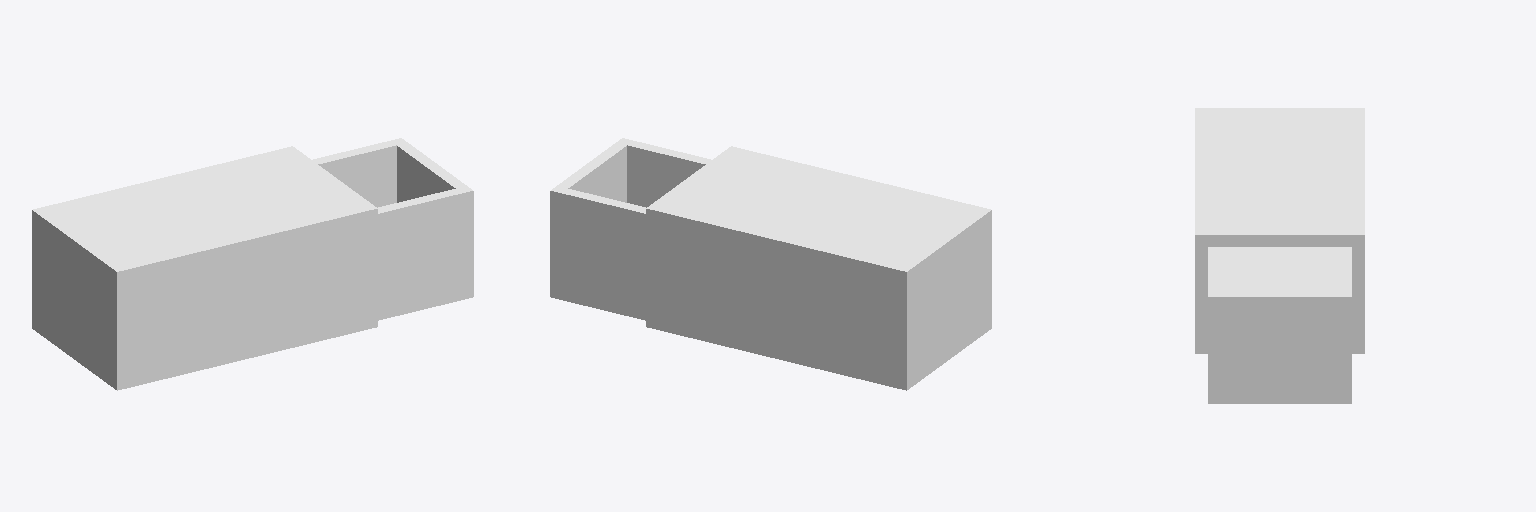
File: sboxbE.obj
3 views of the same model, side by side, from view 1: azimuth 30°, elevation 25°; view 2: azimuth 150°, elevation 25°; view 3: azimuth 270°, elevation 25° (orthographic).
Parts seen in each view (by area): view 1: object 1; view 2: object 1; view 3: object 1.
Boxes of the visible parts, x1=… form: object 1: x1=32, y1=138, x2=473, y2=390; object 1: x1=550, y1=138, x2=991, y2=390; object 1: x1=1195, y1=108, x2=1364, y2=403.
Size of the model in its own units: 3.2 by 1 by 1.3.